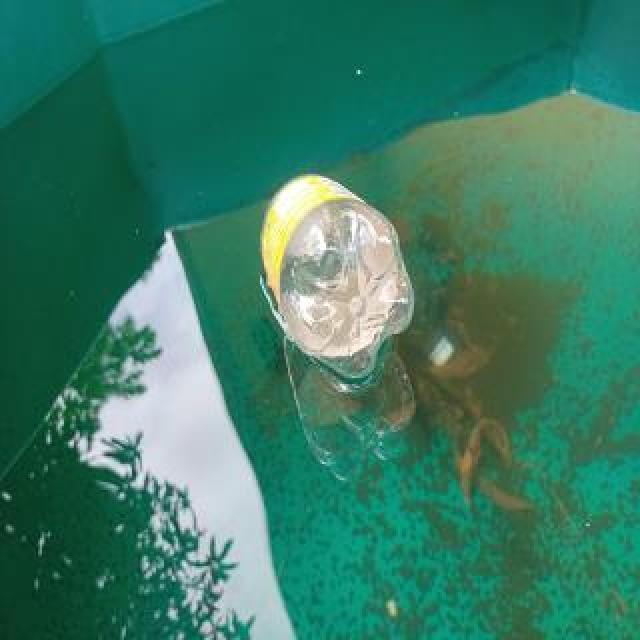bottle: (258, 163, 420, 385)
